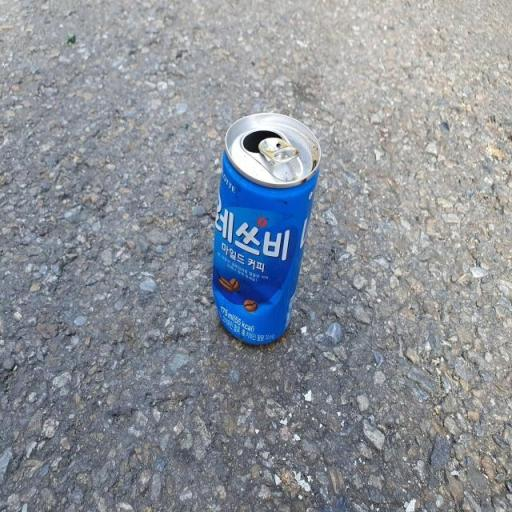metal: (170, 62, 364, 406)
